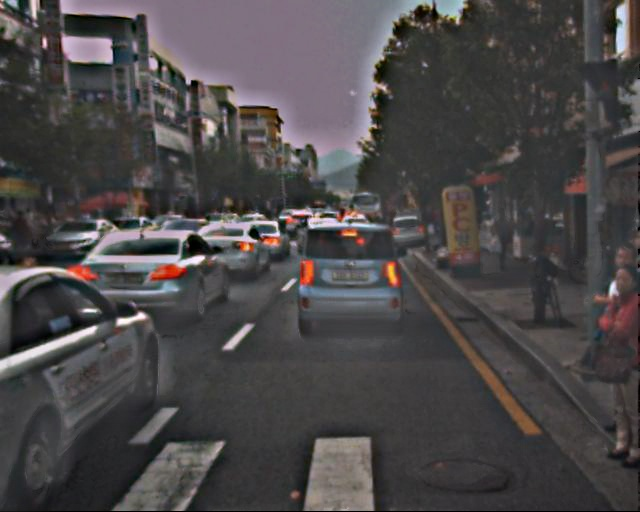person: (586, 270, 640, 465), (585, 244, 640, 429), (490, 207, 517, 274)
